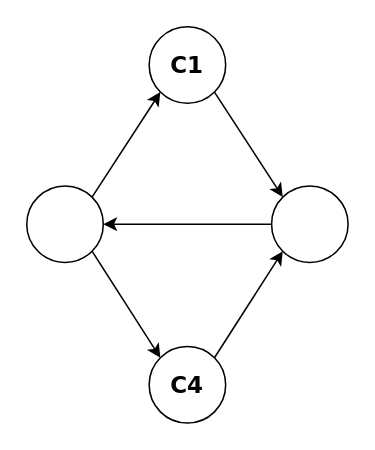
This 375x450 diagram has some shape labels left out. The centre of each missing label's shape, as x and y in pixels:
C2: point (309, 223)
C3: point (64, 223)
